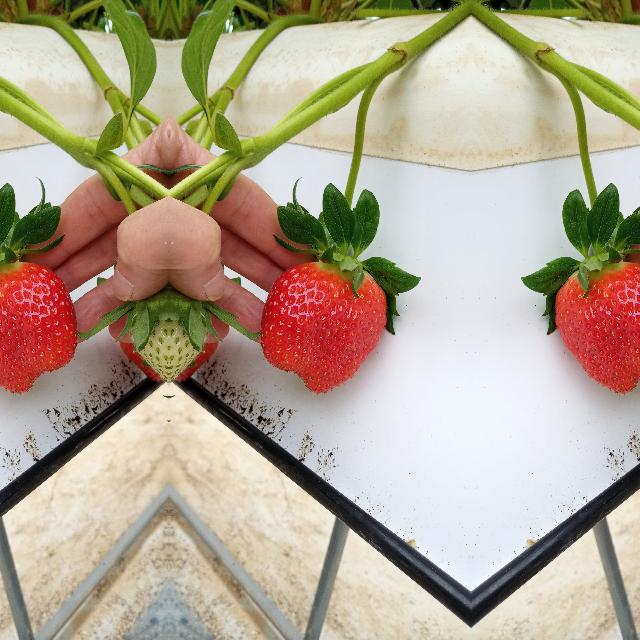Health_100: (259, 261, 387, 395), (554, 261, 640, 395), (0, 261, 77, 395)
Health_25: (170, 284, 212, 401), (124, 284, 166, 401)
